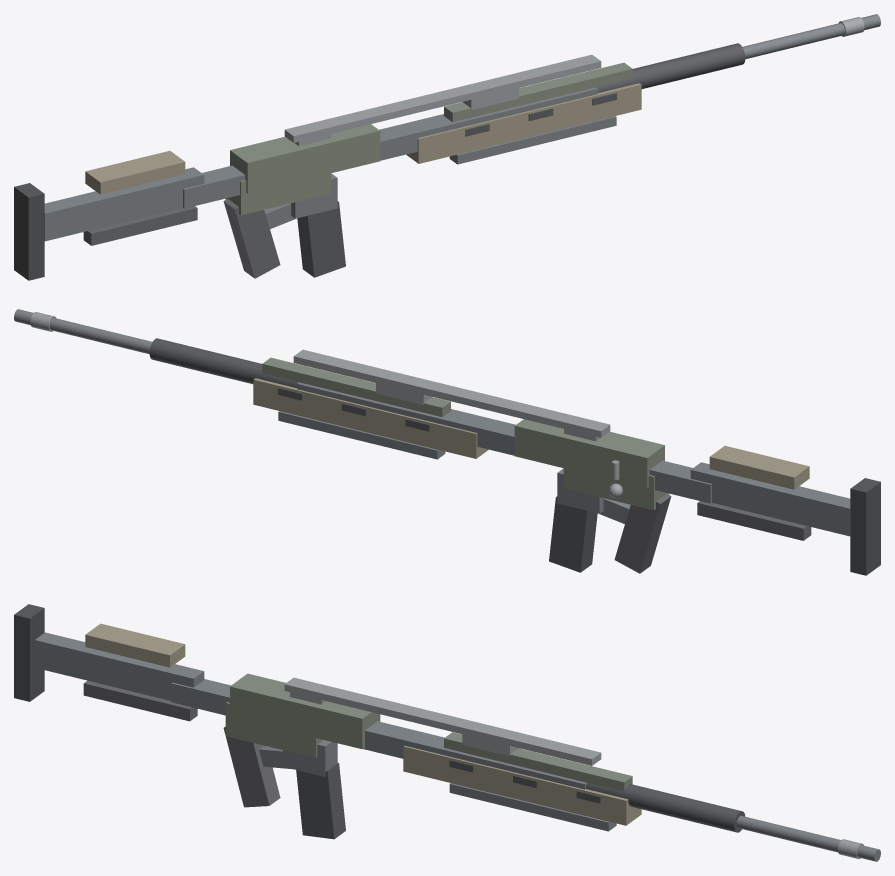
Rendered from metaverse-longshot-sniper.gltf.
The picture shows the model from 3 angles, top to bottom: view 1: azimuth 30°, elevation 25°; view 2: azimuth 150°, elevation 25°; view 3: azimuth 330°, elevation 25°; orthographic projection.
Parts seen in each view (by area): view 1: metaverse_longshot_sniper_receiver_upper, metaverse_longshot_sniper_handguard_core, metaverse_longshot_sniper_rear_stock_spine, metaverse_longshot_sniper_top_rail, metaverse_longshot_sniper_chassis_spine, metaverse_longshot_sniper_handguard_top_strip, metaverse_longshot_sniper_buttpad, metaverse_longshot_sniper_barrel_shroud, metaverse_longshot_sniper_magazine, metaverse_longshot_sniper_cheek_rest, metaverse_longshot_sniper_pistol_grip, metaverse_longshot_sniper_receiver_lower (+5 smaller); view 2: metaverse_longshot_sniper_receiver_upper, metaverse_longshot_sniper_handguard_core, metaverse_longshot_sniper_rear_stock_spine, metaverse_longshot_sniper_top_rail, metaverse_longshot_sniper_chassis_spine, metaverse_longshot_sniper_handguard_top_strip, metaverse_longshot_sniper_buttpad, metaverse_longshot_sniper_barrel_shroud, metaverse_longshot_sniper_magazine, metaverse_longshot_sniper_cheek_rest, metaverse_longshot_sniper_pistol_grip, metaverse_longshot_sniper_receiver_lower (+5 smaller); view 3: metaverse_longshot_sniper_handguard_core, metaverse_longshot_sniper_receiver_upper, metaverse_longshot_sniper_rear_stock_spine, metaverse_longshot_sniper_top_rail, metaverse_longshot_sniper_chassis_spine, metaverse_longshot_sniper_magazine, metaverse_longshot_sniper_barrel_shroud, metaverse_longshot_sniper_handguard_top_strip, metaverse_longshot_sniper_cheek_rest, metaverse_longshot_sniper_buttpad, metaverse_longshot_sniper_pistol_grip, metaverse_longshot_sniper_receiver_lower (+5 smaller).
Boxes of the visible parts, x1=… form: metaverse_longshot_sniper_receiver_upper: x1=230, y1=124, x2=380, y2=193; metaverse_longshot_sniper_handguard_core: x1=406, y1=83, x2=641, y2=163; metaverse_longshot_sniper_rear_stock_spine: x1=44, y1=167, x2=204, y2=241; metaverse_longshot_sniper_top_rail: x1=284, y1=54, x2=601, y2=142; metaverse_longshot_sniper_chassis_spine: x1=183, y1=87, x2=597, y2=208; metaverse_longshot_sniper_handguard_top_strip: x1=444, y1=62, x2=632, y2=122; metaverse_longshot_sniper_buttpad: x1=14, y1=183, x2=44, y2=280; metaverse_longshot_sniper_barrel_shroud: x1=578, y1=43, x2=745, y2=92; metaverse_longshot_sniper_magazine: x1=297, y1=201, x2=345, y2=277; metaverse_longshot_sniper_cheek_rest: x1=85, y1=150, x2=185, y2=194; metaverse_longshot_sniper_pistol_grip: x1=223, y1=199, x2=280, y2=278; metaverse_longshot_sniper_receiver_lower: x1=225, y1=173, x2=331, y2=215; metaverse_longshot_sniper_receiver_upper: x1=514, y1=419, x2=664, y2=488; metaverse_longshot_sniper_handguard_core: x1=253, y1=378, x2=488, y2=458; metaverse_longshot_sniper_rear_stock_spine: x1=690, y1=462, x2=850, y2=536; metaverse_longshot_sniper_top_rail: x1=293, y1=349, x2=610, y2=437; metaverse_longshot_sniper_chassis_spine: x1=297, y1=382, x2=711, y2=503; metaverse_longshot_sniper_handguard_top_strip: x1=262, y1=357, x2=450, y2=417; metaverse_longshot_sniper_buttpad: x1=850, y1=478, x2=880, y2=575; metaverse_longshot_sniper_barrel_shroud: x1=149, y1=338, x2=316, y2=387; metaverse_longshot_sniper_magazine: x1=549, y1=496, x2=597, y2=572; metaverse_longshot_sniper_cheek_rest: x1=709, y1=445, x2=809, y2=489; metaverse_longshot_sniper_pistol_grip: x1=614, y1=494, x2=671, y2=573; metaverse_longshot_sniper_receiver_lower: x1=563, y1=468, x2=669, y2=510; metaverse_longshot_sniper_handguard_core: x1=403, y1=745, x2=641, y2=825; metaverse_longshot_sniper_receiver_upper: x1=230, y1=673, x2=380, y2=749; metaverse_longshot_sniper_rear_stock_spine: x1=34, y1=632, x2=204, y2=700; metaverse_longshot_sniper_top_rail: x1=284, y1=677, x2=601, y2=765; metaverse_longshot_sniper_chassis_spine: x1=171, y1=679, x2=586, y2=789; metaverse_longshot_sniper_magazine: x1=296, y1=762, x2=345, y2=839; metaverse_longshot_sniper_barrel_shroud: x1=568, y1=778, x2=745, y2=832; metaverse_longshot_sniper_handguard_top_strip: x1=444, y1=732, x2=632, y2=791; metaverse_longshot_sniper_cheek_rest: x1=85, y1=623, x2=185, y2=667; metaverse_longshot_sniper_buttpad: x1=14, y1=604, x2=44, y2=701; metaverse_longshot_sniper_pistol_grip: x1=223, y1=726, x2=280, y2=807; metaverse_longshot_sniper_receiver_lower: x1=225, y1=702, x2=323, y2=757.
Bounding box in the file's own units: 1.61 × 0.2729 × 0.078.
